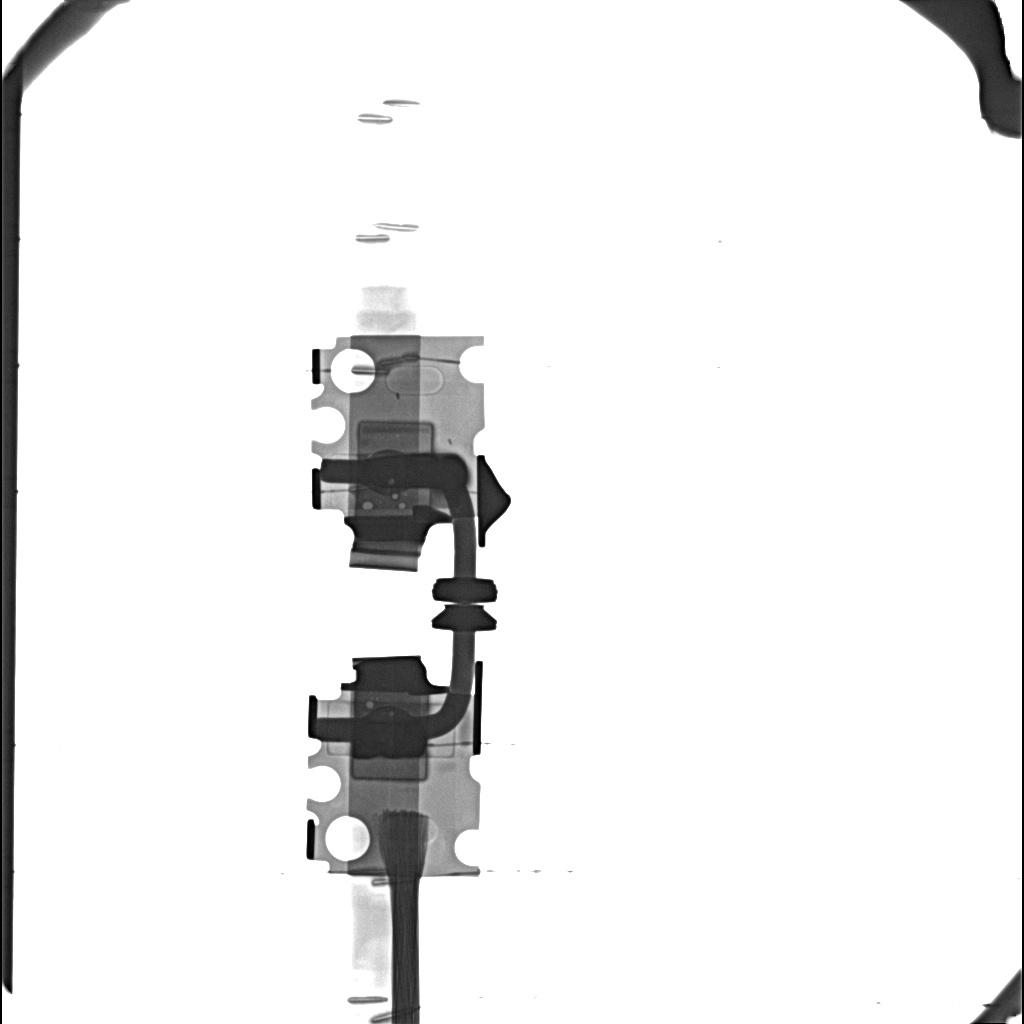气孔: (357, 421, 434, 453), (351, 755, 429, 781)
气泡: (361, 502, 372, 510), (365, 701, 373, 708), (399, 503, 406, 510), (392, 492, 398, 499)
水纹: (366, 454, 467, 489), (353, 719, 426, 759)
